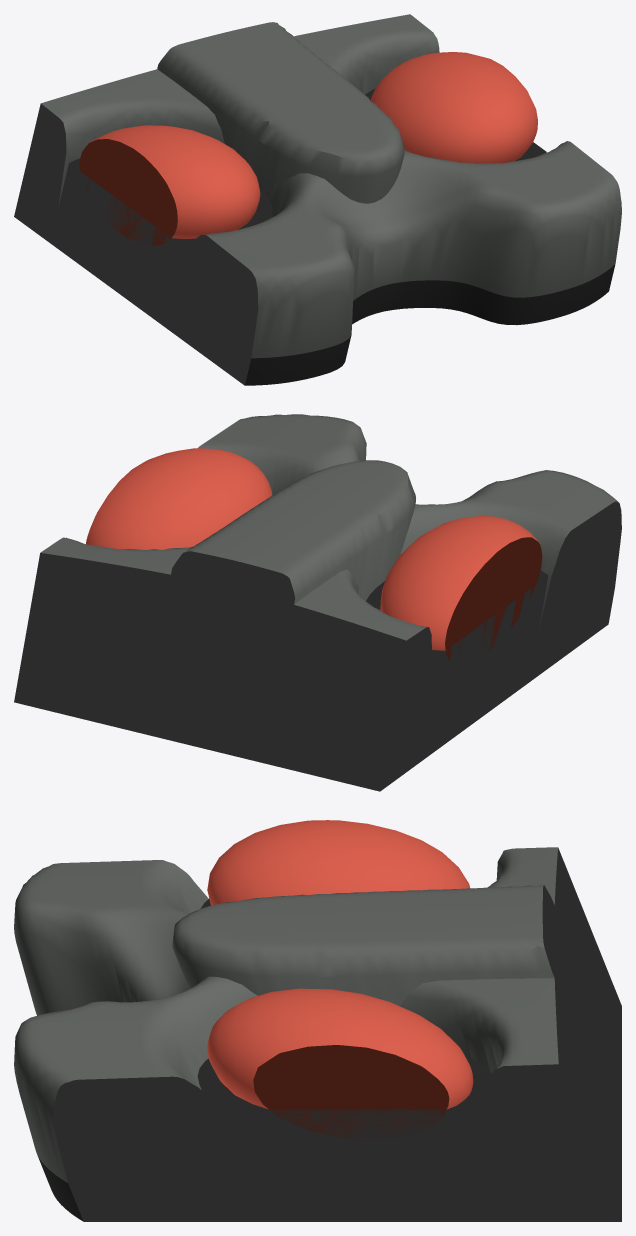
Rendered from dome_head_87.glb.
The picture shows the model from 3 angles, top to bottom: view 1: azimuth 30°, elevation 25°; view 2: azimuth 150°, elevation 25°; view 3: azimuth 270°, elevation 25°; orthographic projection. The views are drawn at different scales.
Visible parts, largest first — view 1: dome_head_87; view 2: dome_head_87; view 3: dome_head_87.
Part boxes in pixels (bbox=[...]): dome_head_87: bbox=[14, 14, 621, 385]; dome_head_87: bbox=[14, 414, 621, 791]; dome_head_87: bbox=[14, 820, 621, 1221].
Bounding box in the file's own units: 24 × 10.24 × 28.59.
